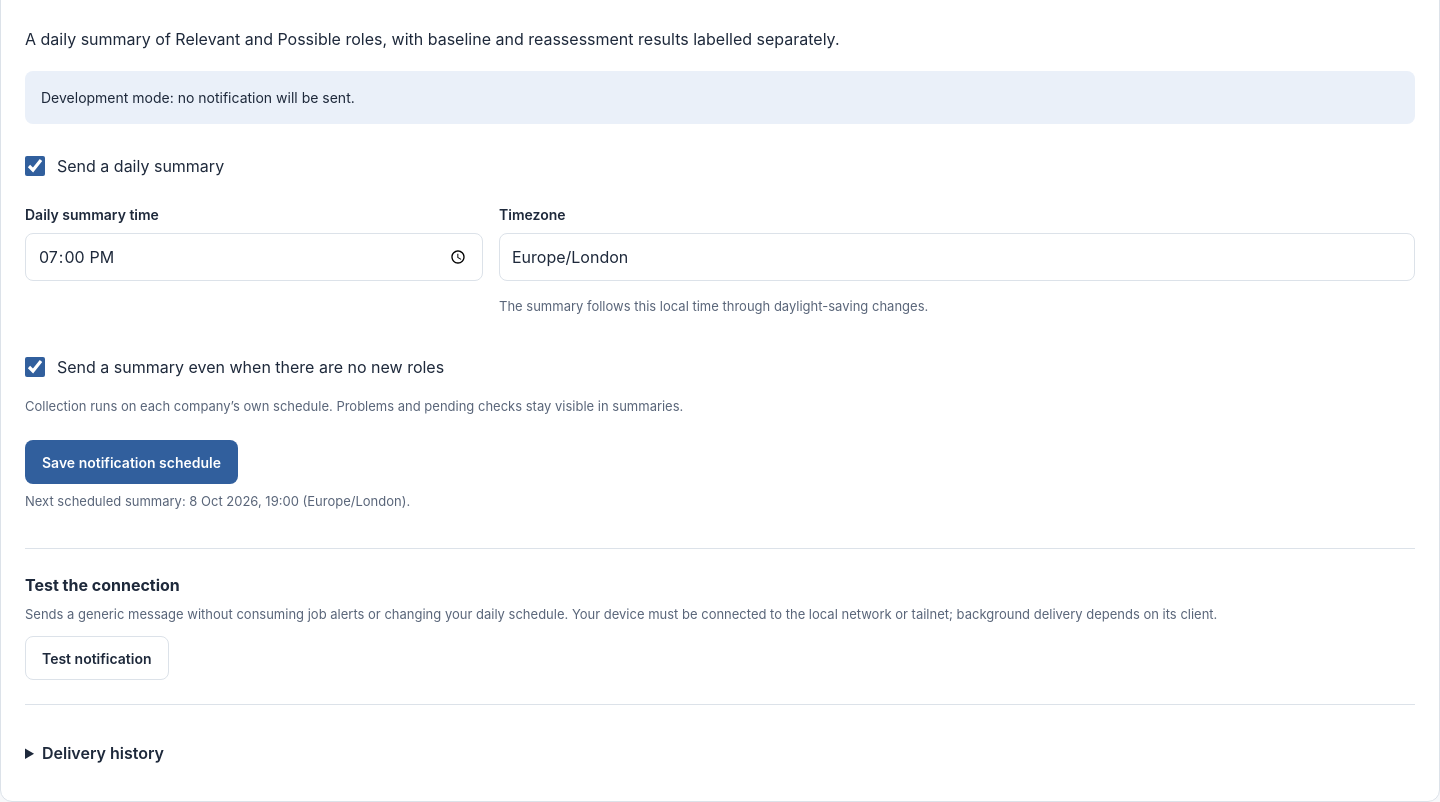
Test: purged content is not shown as zero results or offered for resend
The image size is (1440, 802).
(page scrolled)
What coordinates should you click on to do the following:
click the heading "Delivery history"
I would click on:
 (103, 753)
Its box is [42,743,164,763].
(page scrolled)
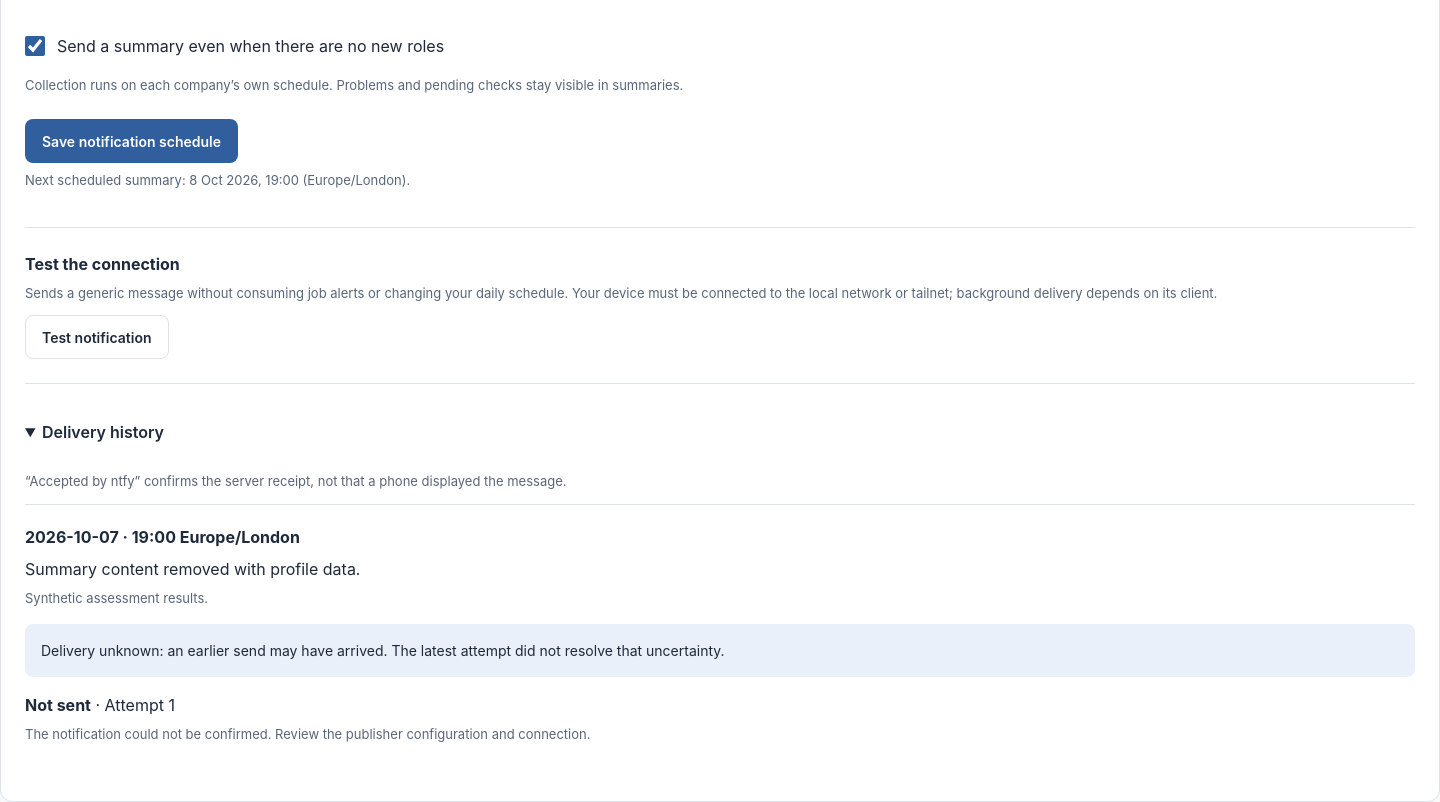
Expected: the text "Summary content removed with profile data." is shown, [25,558,360,578]
Expected: the text "Delivery unknown: an earlier send may have arrived" is shown, [41,642,725,659]
